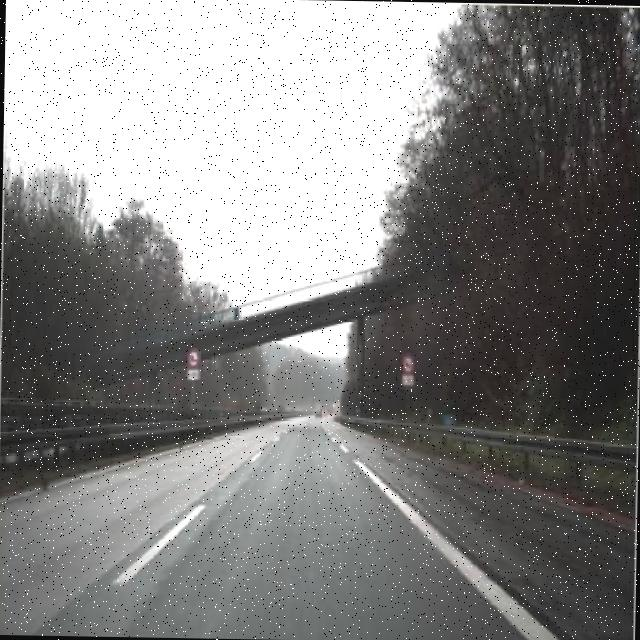Zakaz wyprzedzania: (400, 350, 417, 376), (186, 346, 200, 372)
